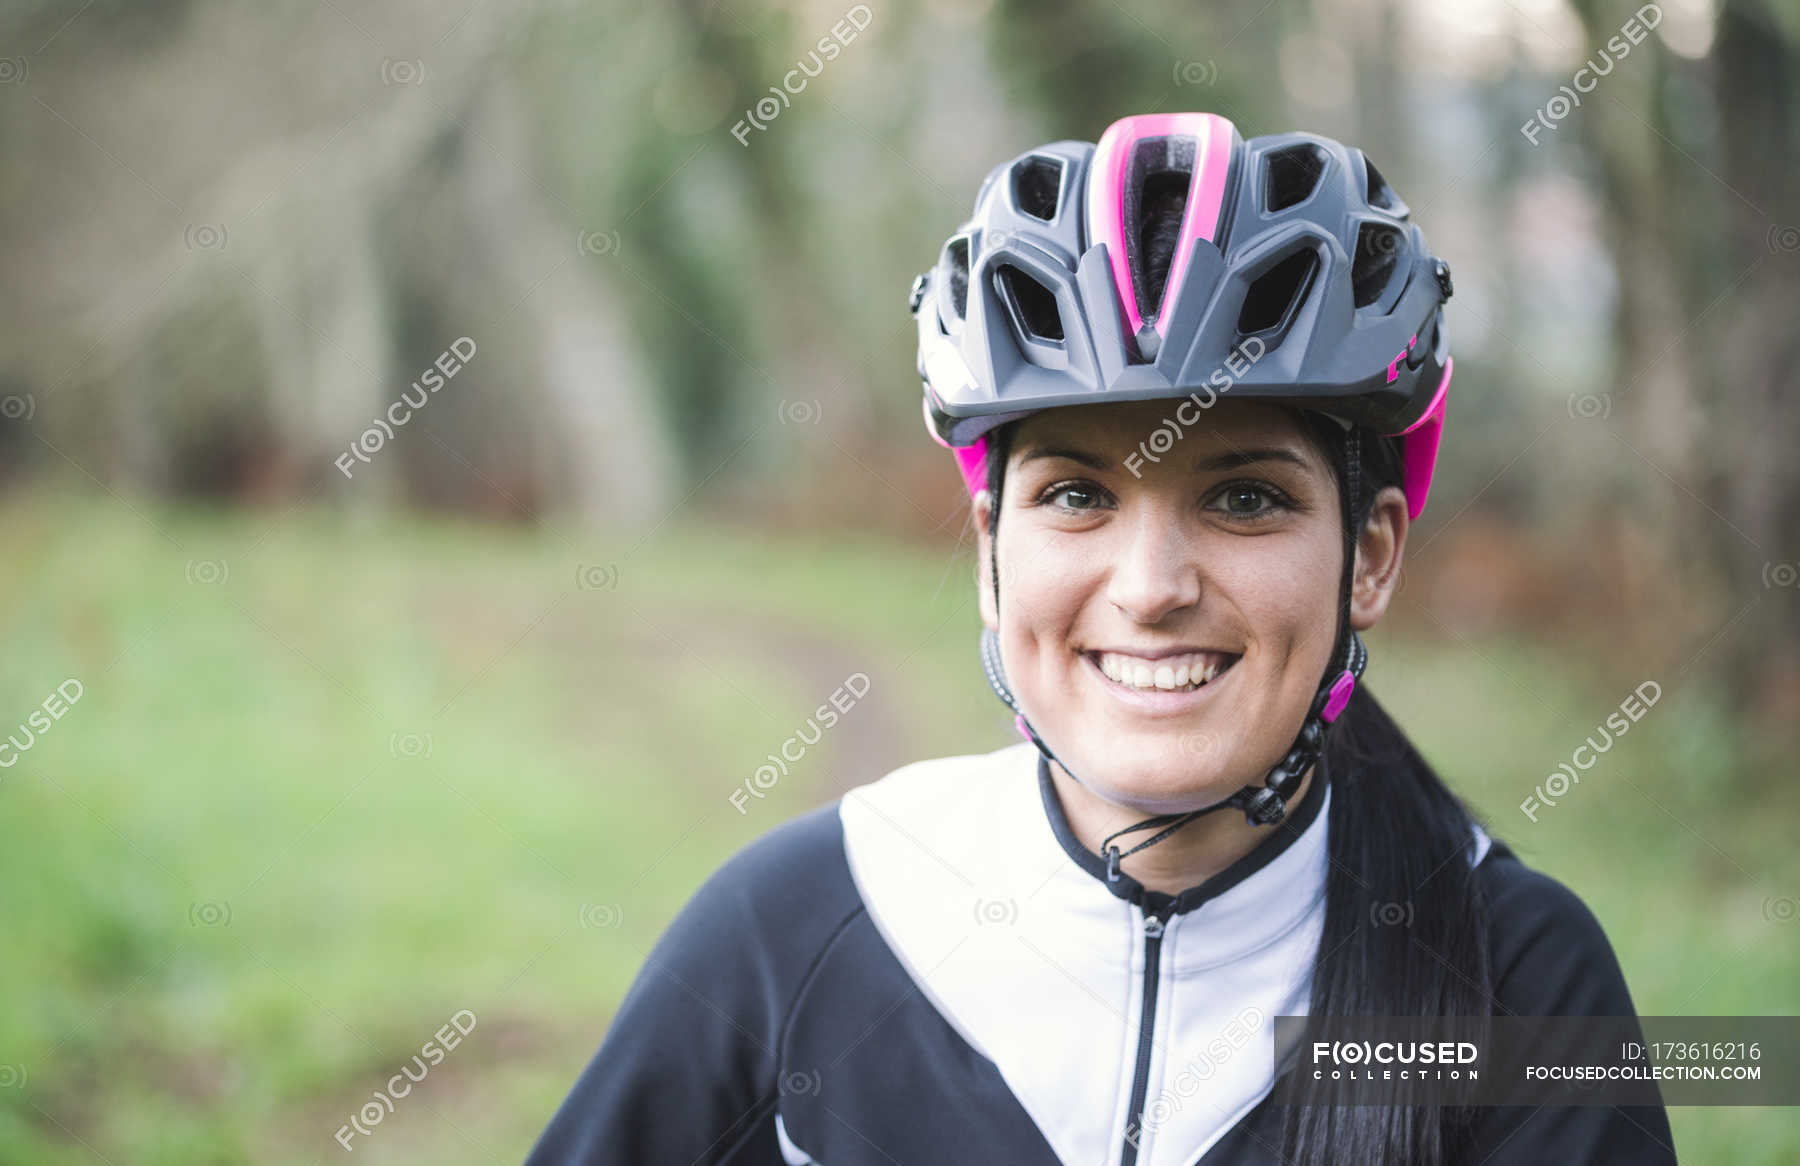helmet: (910, 113, 1454, 812)
